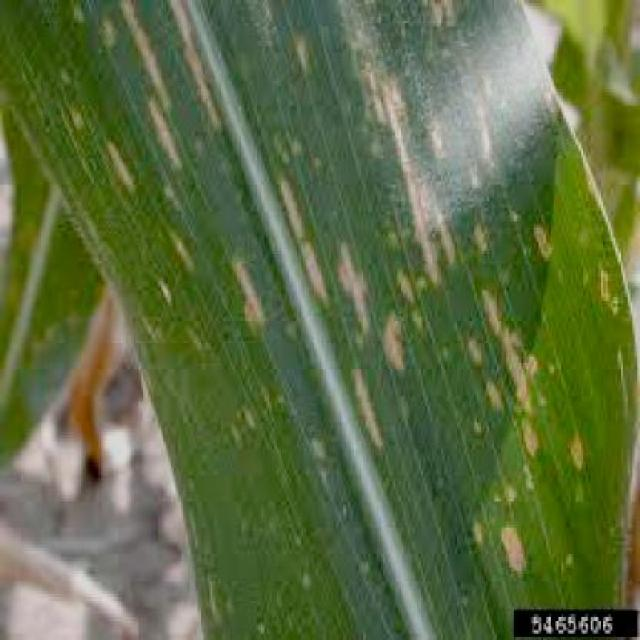Corn_Grey_Leaf_Spot: (17, 0, 640, 591)
